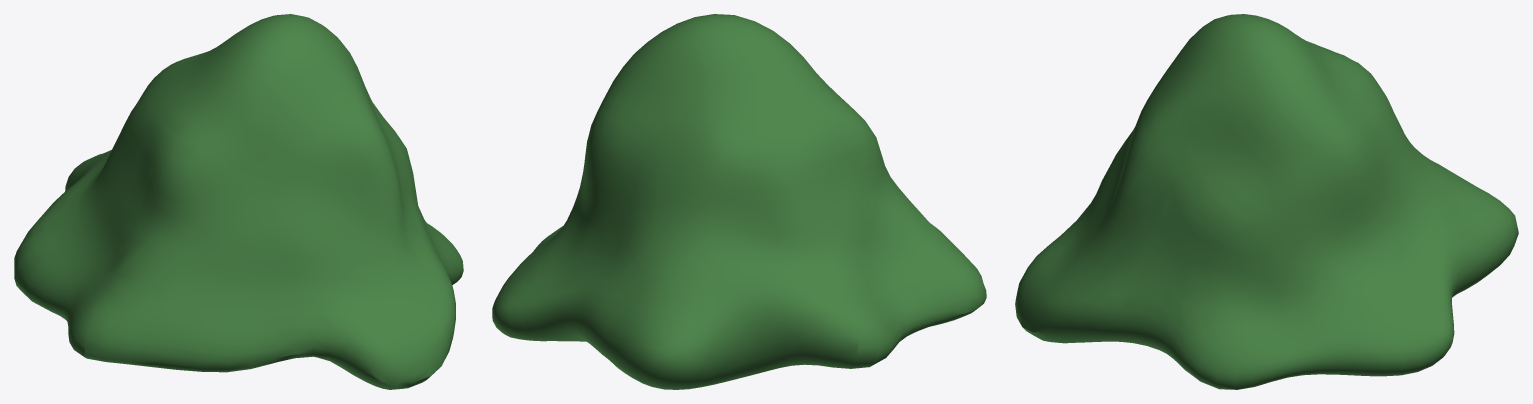
Rendered from Slime Grande.fbx.
The picture shows the model from 3 angles, left to right: view 1: azimuth 30°, elevation 25°; view 2: azimuth 150°, elevation 25°; view 3: azimuth 270°, elevation 25°; orthographic projection.
Visible parts, largest first — view 1: Slime_Grande1; view 2: Slime_Grande1; view 3: Slime_Grande1.
Part boxes in pixels (x1,y1,x2,y2): Slime_Grande1: (14, 14, 463, 389); Slime_Grande1: (492, 14, 986, 389); Slime_Grande1: (1015, 14, 1518, 389).
Size of the model in its own units: 3.48 by 2.46 by 3.69.
